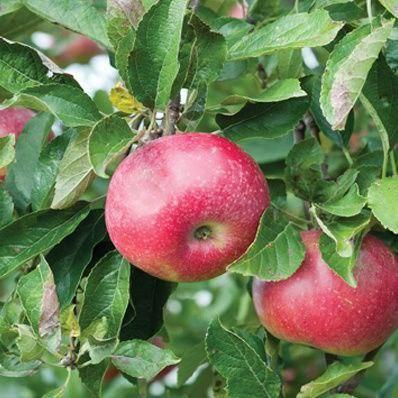Apple: (106, 132, 272, 282)
